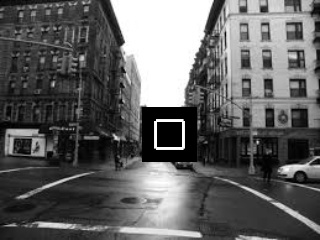square: (142, 107, 198, 162)
